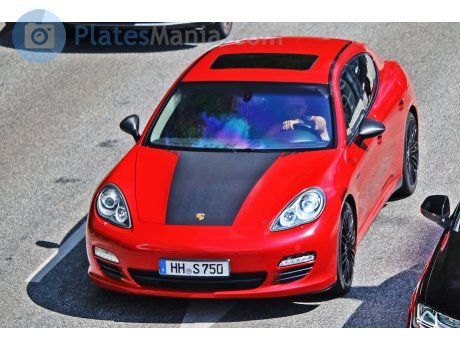License Plates: (165, 257, 226, 274)
